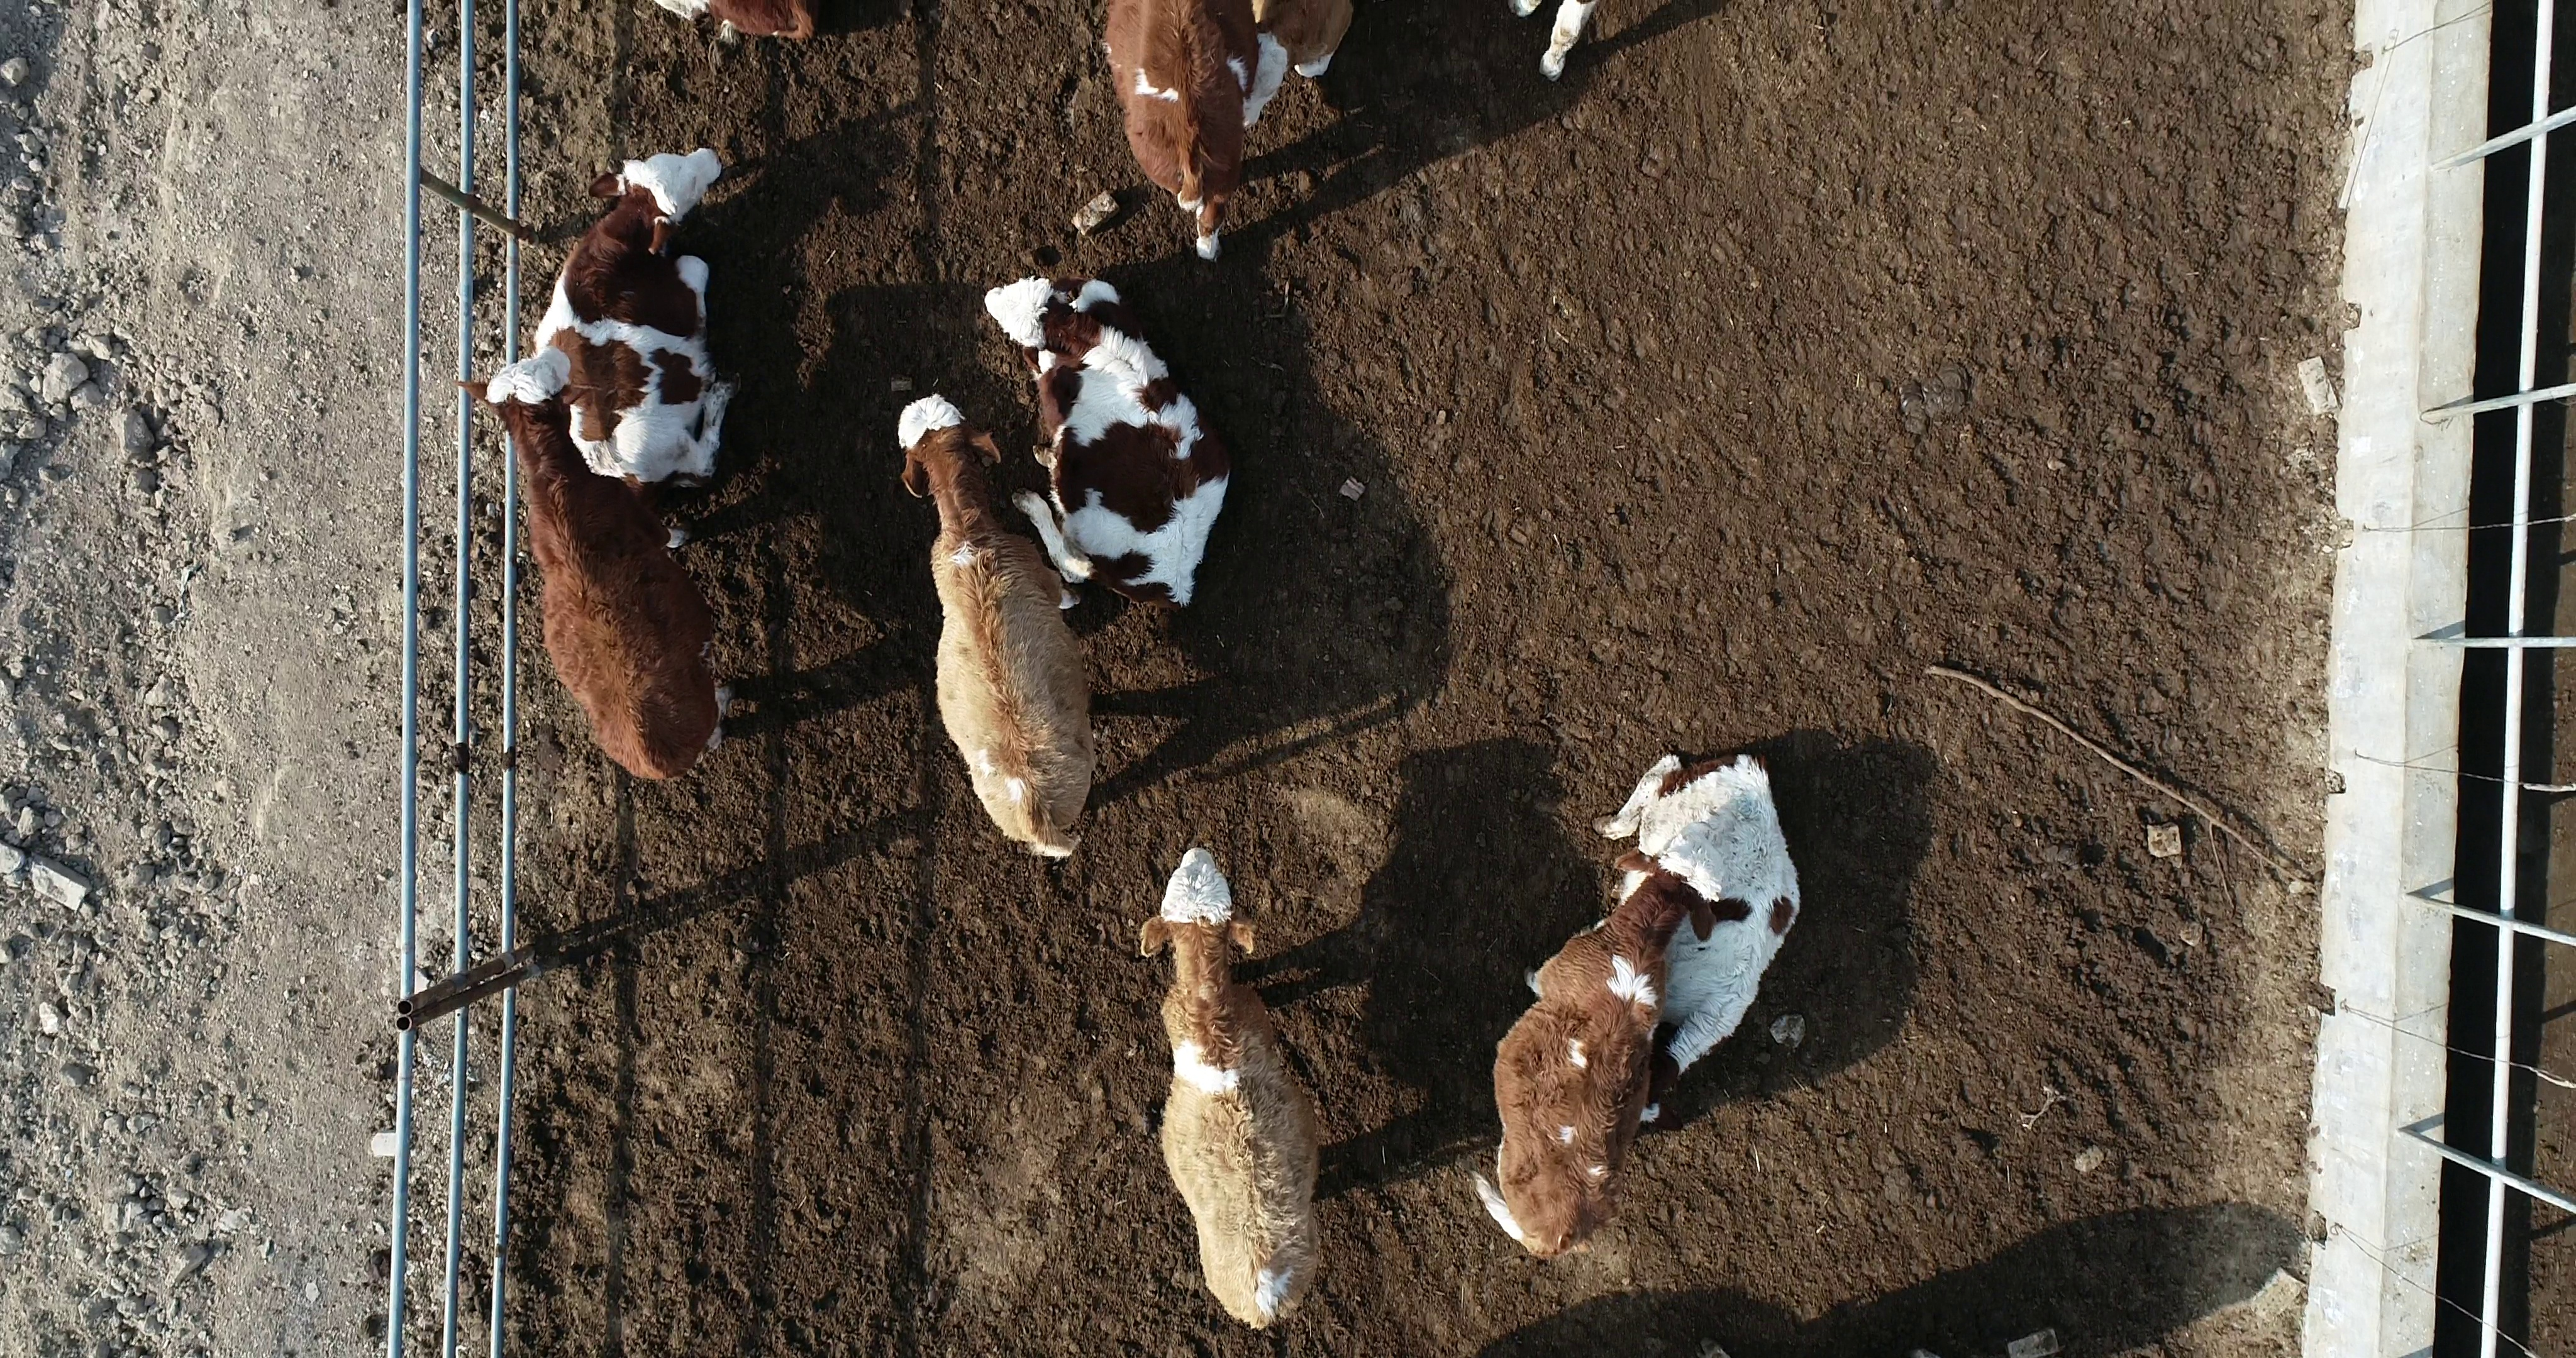cattle: (451, 348, 743, 791), (1462, 825, 1719, 1264), (891, 394, 1097, 859), (1131, 845, 1325, 1334), (981, 273, 1237, 619), (526, 141, 751, 498)
